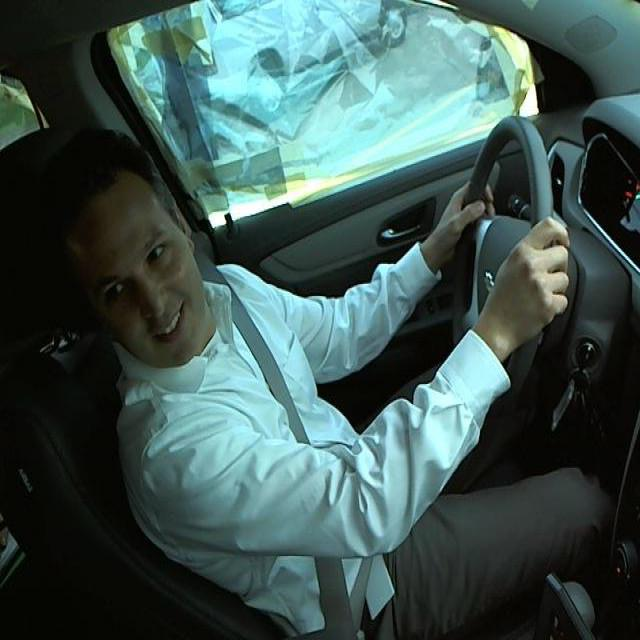seatbelt: (224, 308, 373, 617)
